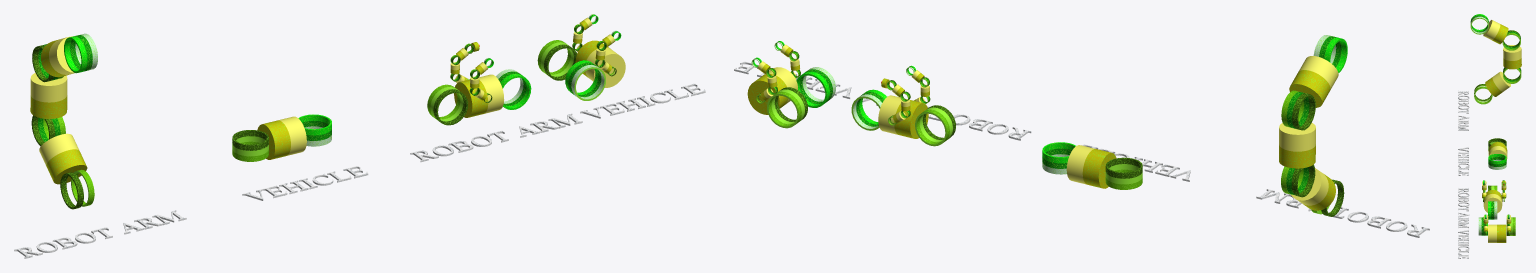
Rendered from 09-SIMULATIONVEHICLES-ARMS.dae.
The picture shows the model from 3 angles, left to right: view 1: azimuth 30°, elevation 25°; view 2: azimuth 150°, elevation 25°; view 3: azimuth 270°, elevation 25°; orthographic projection. The views are drawn at different scales.
Parts seen in each view (by area): view 1: group_5 (×6), group_11 (×2), group_3 (×2); view 2: group_5 (×5), group_3 (×2), group_16, group_46, group_11; view 3: group_5 (×6), group_11 (×2), group_2 (×5), group_22 (×3), group_46, group_16, group_10 (×3), group_3 (×2), group_15 (×2), group_48 (×2), group_47, ROBOT_ARM_VEHICL (+1 smaller).
Boxes of the visible parts, x1,y1,x2,y2 form: group_5 (×6): (30,36,625,165); group_11 (×2): (30,95,87,184); group_3 (×2): (257,79,488,159); group_5 (×5): (878,56,1338,205); group_3 (×2): (894,100,1116,188); group_16: (1289,70,1330,107); group_46: (747,74,787,114); group_11: (1279,144,1315,168); group_5 (×6): (1483,20,1521,242); group_11 (×2): (1485,58,1521,96); group_2 (×5): (1488,138,1506,169); group_22 (×3): (1488,201,1497,219); group_46: (1497,224,1506,242); group_16: (1492,24,1508,44); group_10 (×3): (1474,68,1521,104); group_3 (×2): (1484,142,1507,200); group_15 (×2): (1470,18,1520,50); group_48 (×2): (1478,217,1484,235); group_47: (1512,217,1515,235); ROBOT_ARM_VEHICL: (1458,222,1468,227).
Bounding box in the file's own units: 215 × 34.46 × 56.4.
